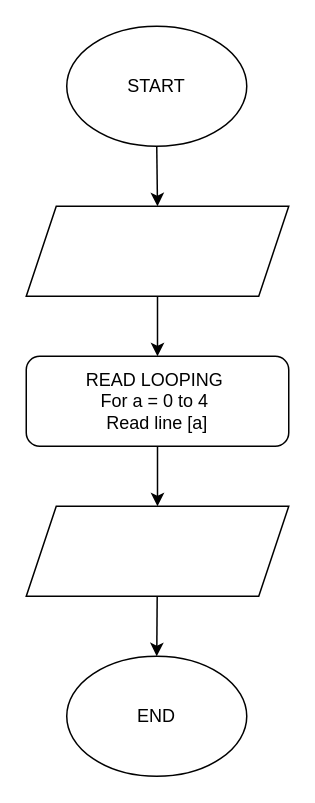
Image size: 315x803. Some labels were removed from this diagram. Here are the shapes that lost their labels. From the top down, the centre of each, then its label:
[157,250]: INPUT MENYATAKAN ADA 5 BARIS (LINES)
[157,550]: PRINT LOOPING For a = 0 to 4 Print line [a]
